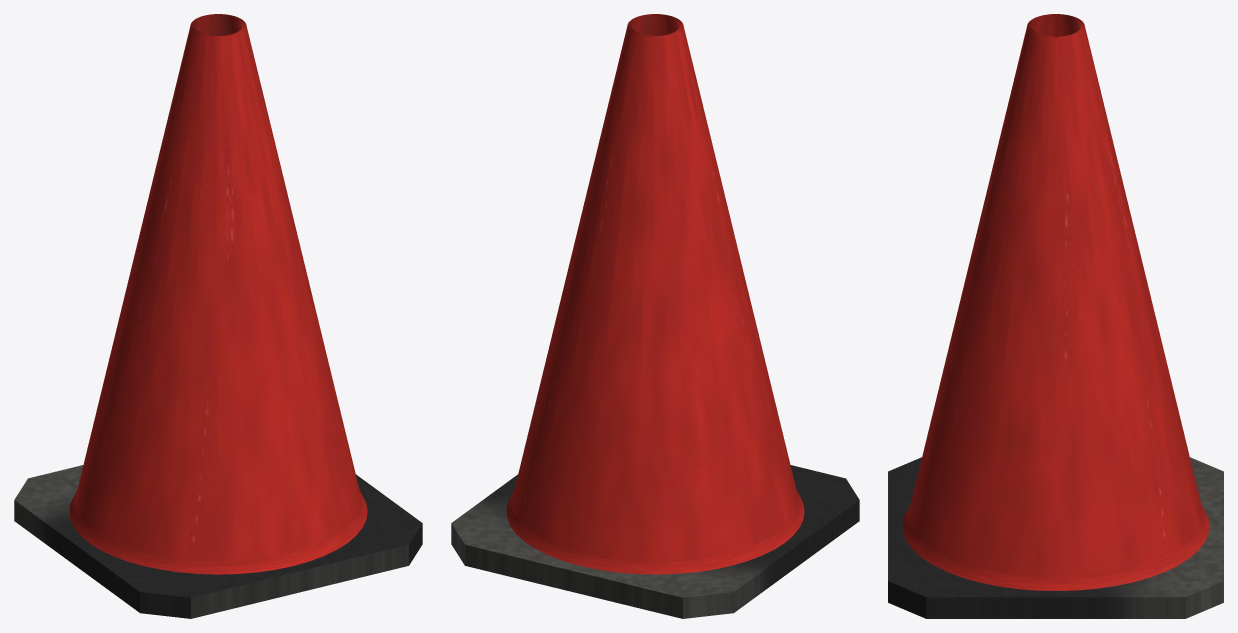
File: SM_Cone_Collet.glb
3 renders of one model, left to right at view 1: azimuth 30°, elevation 25°; view 2: azimuth 150°, elevation 25°; view 3: azimuth 270°, elevation 25°, orthographic. The views are drawn at different scales.
Parts seen in each view (by area): view 1: SM_Cone_Collet; view 2: SM_Cone_Collet; view 3: SM_Cone_Collet.
Part boxes in pixels (bbox=[...]): SM_Cone_Collet: bbox=[14, 14, 422, 618]; SM_Cone_Collet: bbox=[451, 14, 859, 618]; SM_Cone_Collet: bbox=[888, 14, 1223, 618].
Size of the model in its own units: 0.2667 by 0.4572 by 0.2667.
Materials: 2 (2 with a texture image).
